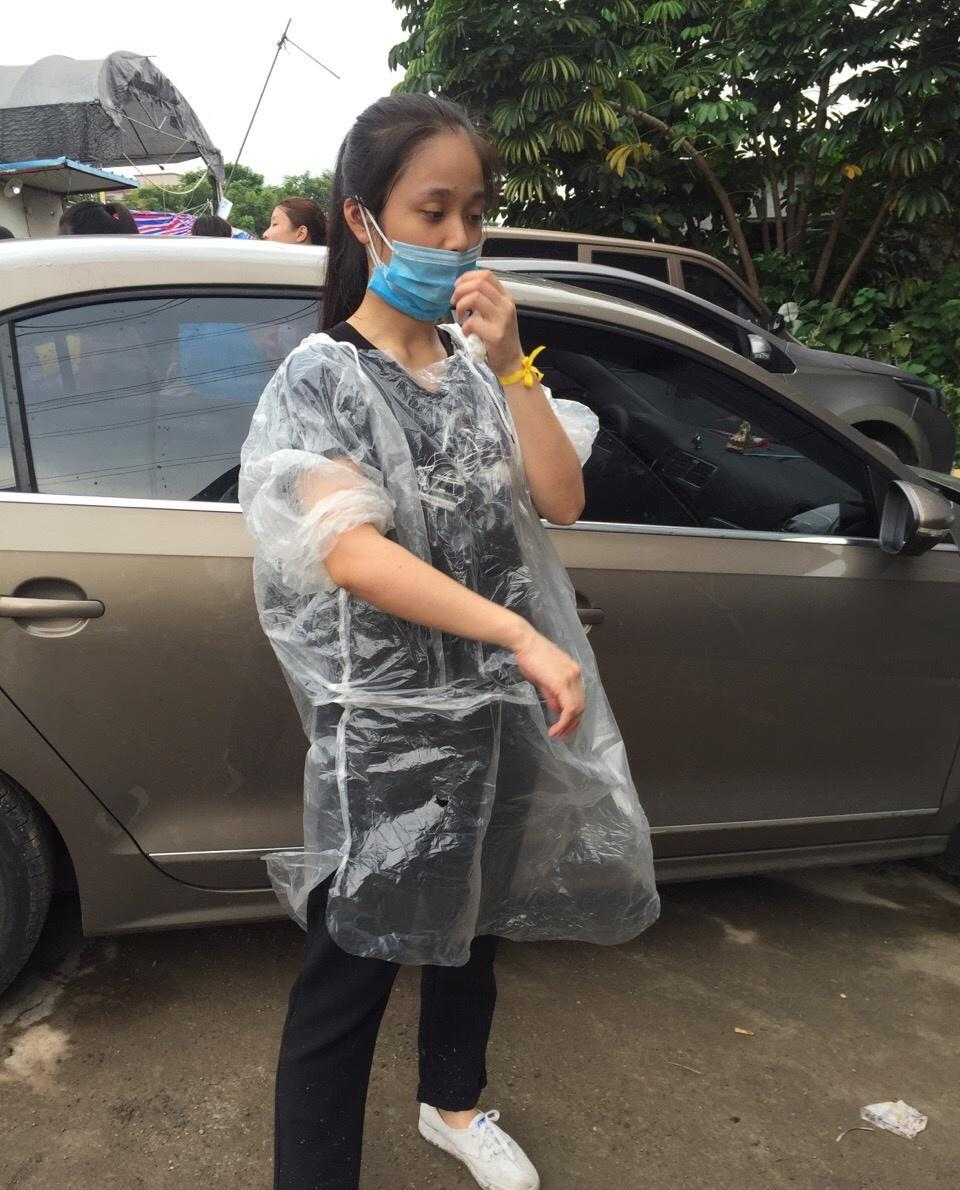NONE: (259, 209, 309, 262)
WRONG: (356, 169, 507, 320)
